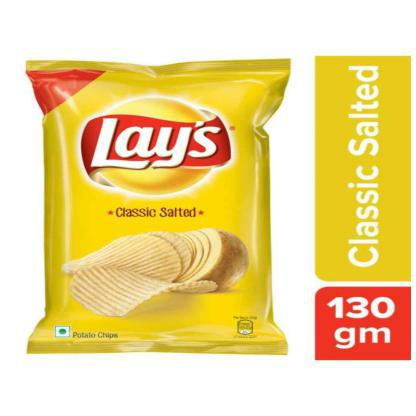classicsalted: (25, 58, 290, 356)
